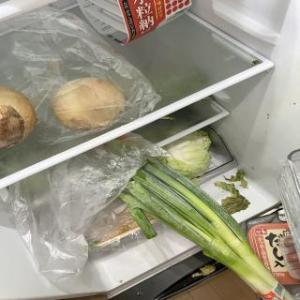cabbage: (154, 128, 212, 178)
onion: (110, 140, 294, 300), (52, 77, 126, 129), (1, 84, 38, 150)
